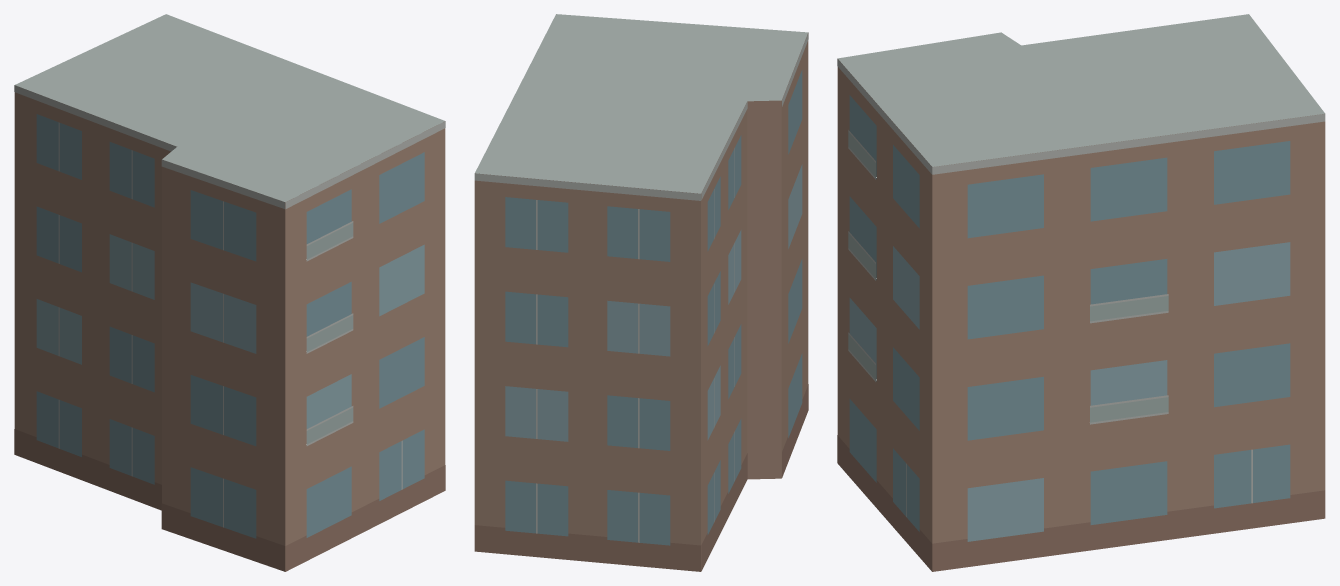
File: survey-upis-32526269.glb
3 views of the same model, side by side, from view 1: azimuth 30°, elevation 25°; view 2: azimuth 150°, elevation 25°; view 3: azimuth 270°, elevation 25° (orthographic). The views are drawn at different scales.
Parts seen in each view (by area): view 1: survey-upis-32526269.tmp; view 2: survey-upis-32526269.tmp; view 3: survey-upis-32526269.tmp.
Boxes of the visible parts, x1,y1,x2,y2 form: survey-upis-32526269.tmp: (14, 14, 445, 571); survey-upis-32526269.tmp: (474, 14, 808, 571); survey-upis-32526269.tmp: (837, 14, 1325, 571).
Bounding box in the file's own units: 10.3 × 12.7 × 13.88.
